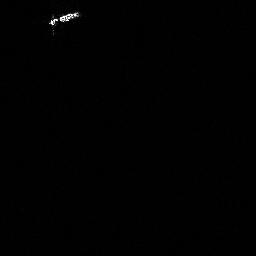ship: (47, 9, 82, 28)
